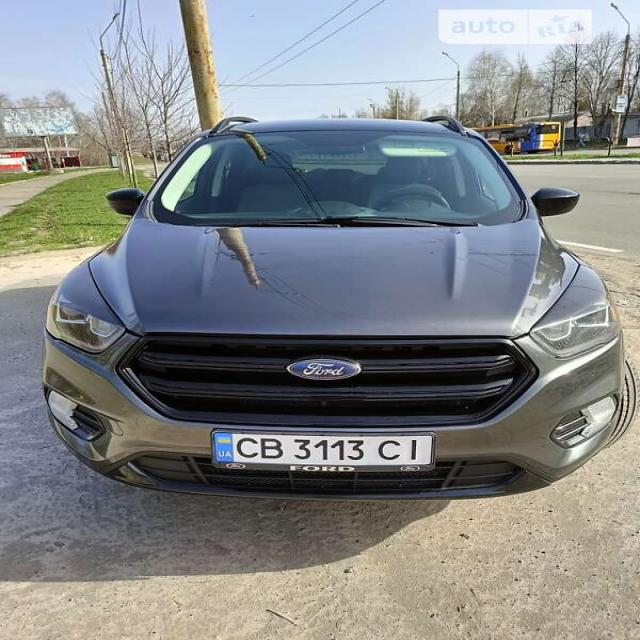plate: (204, 423, 441, 481)
